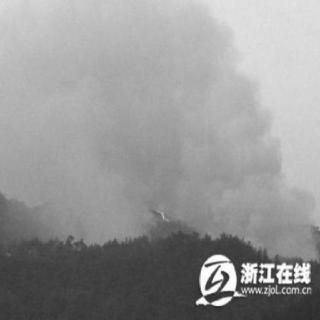Fire: (148, 199, 182, 230)
